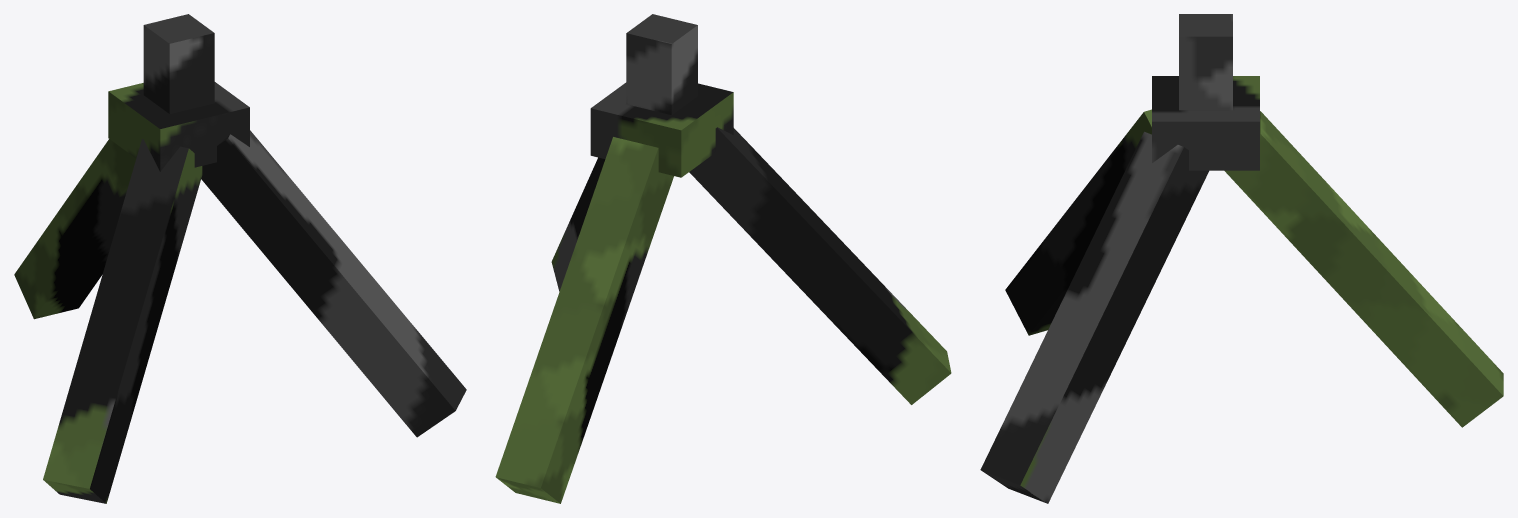
Rendered from sentry_turret.obj.
3 views of the same model, side by side, from view 1: azimuth 30°, elevation 25°; view 2: azimuth 150°, elevation 25°; view 3: azimuth 270°, elevation 25° (orthographic). The views are drawn at different scales.
Visible parts, largest first — view 1: tripot2, tripot3, tripot1, main, main2; view 2: tripot1, tripot2, main, main2, tripot3; view 3: tripot3, tripot1, tripot2, main, main2.
Boxes of the visible parts, x1=… form: tripot2: x1=43, y1=139, x2=202, y2=503; tripot3: x1=201, y1=130, x2=466, y2=437; tripot1: x1=14, y1=139, x2=135, y2=319; main: x1=108, y1=82, x2=249, y2=171; main2: x1=143, y1=14, x2=214, y2=113; tripot1: x1=495, y1=137, x2=673, y2=503; tripot2: x1=689, y1=127, x2=951, y2=404; main: x1=590, y1=82, x2=733, y2=177; main2: x1=626, y1=14, x2=697, y2=115; tripot3: x1=551, y1=157, x2=605, y2=291; tripot3: x1=980, y1=131, x2=1208, y2=503; tripot1: x1=1224, y1=111, x2=1503, y2=427; tripot2: x1=1005, y1=109, x2=1151, y2=335; main: x1=1152, y1=76, x2=1259, y2=170; main2: x1=1179, y1=14, x2=1232, y2=110.
Bounding box in the file's own units: 0.5713 × 0.4991 × 0.6054.
